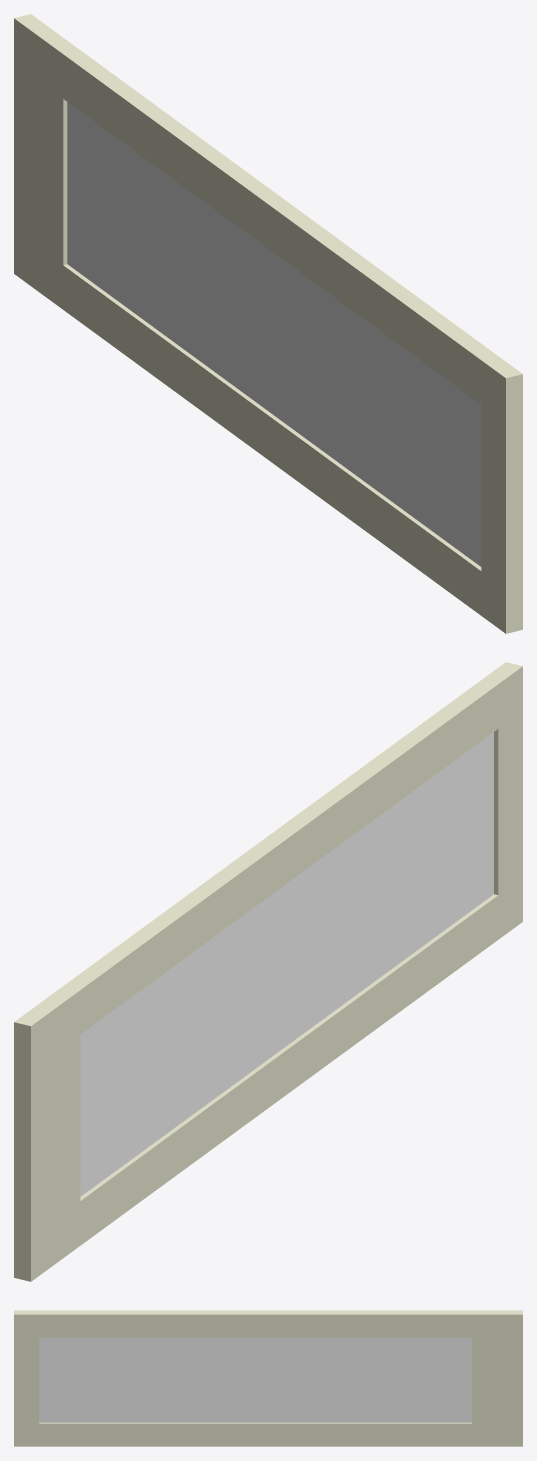
Rendered from ITOKI-900-SLIDE-SHELF-BODYSET3_link_mesh.dae.
3 renders of one model, top to bottom at view 1: azimuth 30°, elevation 25°; view 2: azimuth 150°, elevation 25°; view 3: azimuth 270°, elevation 25°, orthographic. The views are drawn at different scales.
Parts seen in each view (by area): view 1: ITOKI-900-SLIDE-SHELF-BODYSET3_link (×2); view 2: ITOKI-900-SLIDE-SHELF-BODYSET3_link (×2); view 3: ITOKI-900-SLIDE-SHELF-BODYSET3_link (×2).
Boxes of the visible parts, x1,y1,x2,y2 form: ITOKI-900-SLIDE-SHELF-BODYSET3_link (×2): (14, 14, 522, 633); ITOKI-900-SLIDE-SHELF-BODYSET3_link (×2): (14, 662, 522, 1281); ITOKI-900-SLIDE-SHELF-BODYSET3_link (×2): (14, 1310, 522, 1446).
Size of the model in its own units: 0.02 by 0.2867 by 1.
